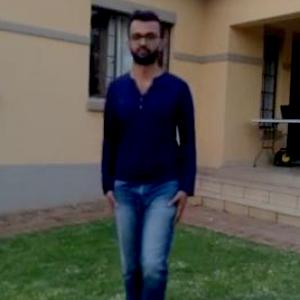follow: (100, 9, 200, 299)
